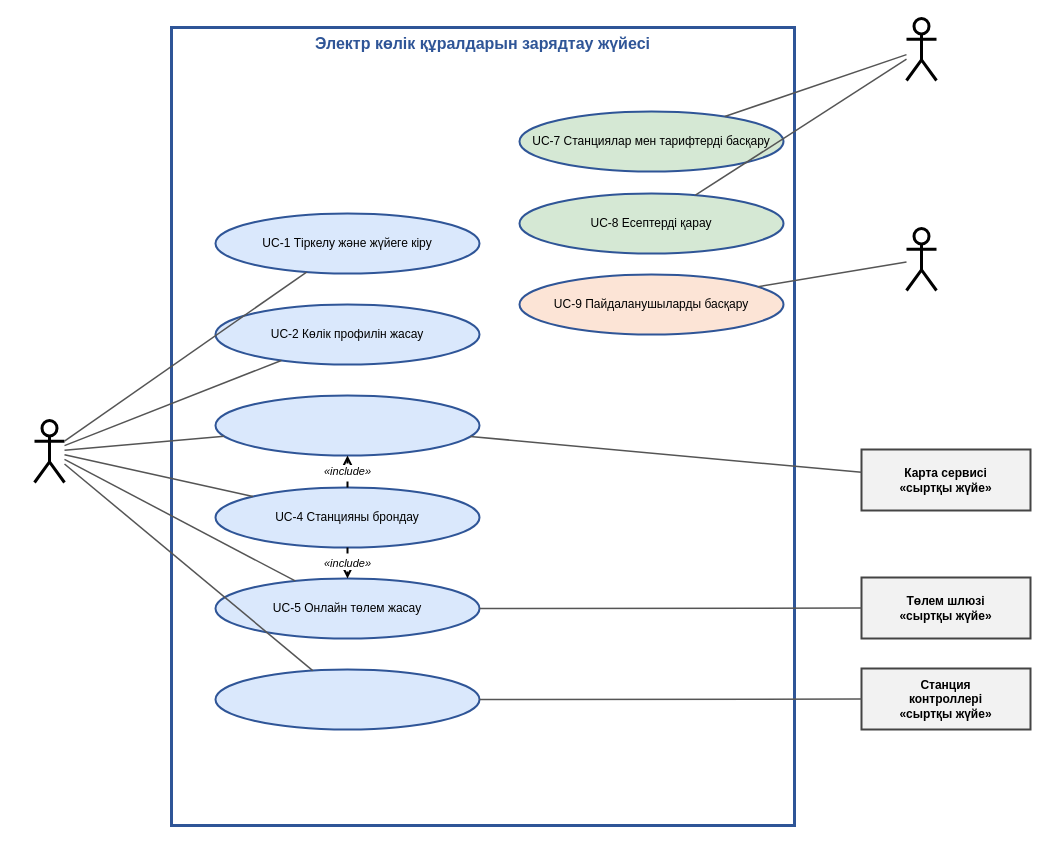
This 1049x844 diagram has some shape labels left out. The shapes that lost their labels are listed below. From the top down, each one's centre as x and y in pixels, then its label:
At pixel 921 49: "Станция операторы".
At pixel 921 259: "Әкімші".
At pixel 347 425: "UC-3 Станцияны іздеу және сүзу".
At pixel 49 451: "Көлік иесі (клиент)".
At pixel 347 699: "UC-6 Зарядтау сессиясын бақылау".
